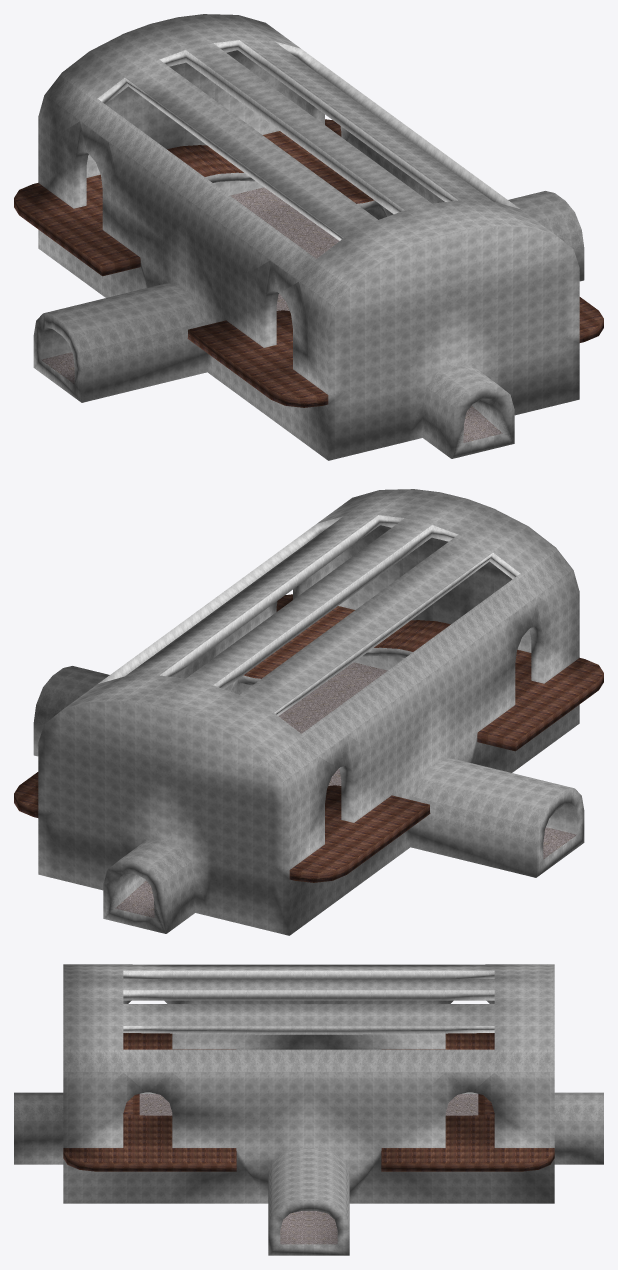
Rendered from MuseumCenter.glb.
3 renders of one model, top to bottom at view 1: azimuth 30°, elevation 25°; view 2: azimuth 150°, elevation 25°; view 3: azimuth 270°, elevation 25°, orthographic. The views are drawn at different scales.
Visible parts, largest first — view 1: MuseumCenter-col; view 2: MuseumCenter-col; view 3: MuseumCenter-col.
Boxes of the visible parts, x1,y1,x2,y2 form: MuseumCenter-col: [14, 14, 603, 460]; MuseumCenter-col: [14, 489, 603, 935]; MuseumCenter-col: [14, 964, 603, 1255].
Size of the model in its own units: 40 by 15 by 48.
4 materials, 4 textured.
